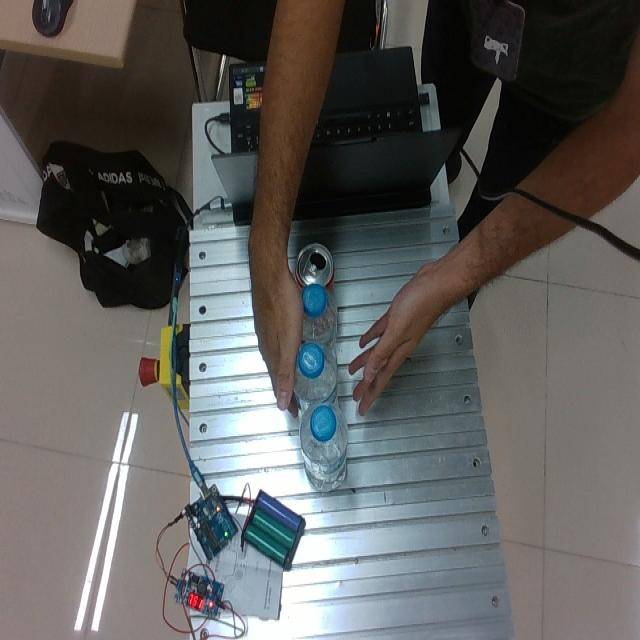coca: (294, 241, 335, 291)
lavie: (298, 399, 349, 489), (293, 340, 338, 405), (298, 280, 337, 347)
